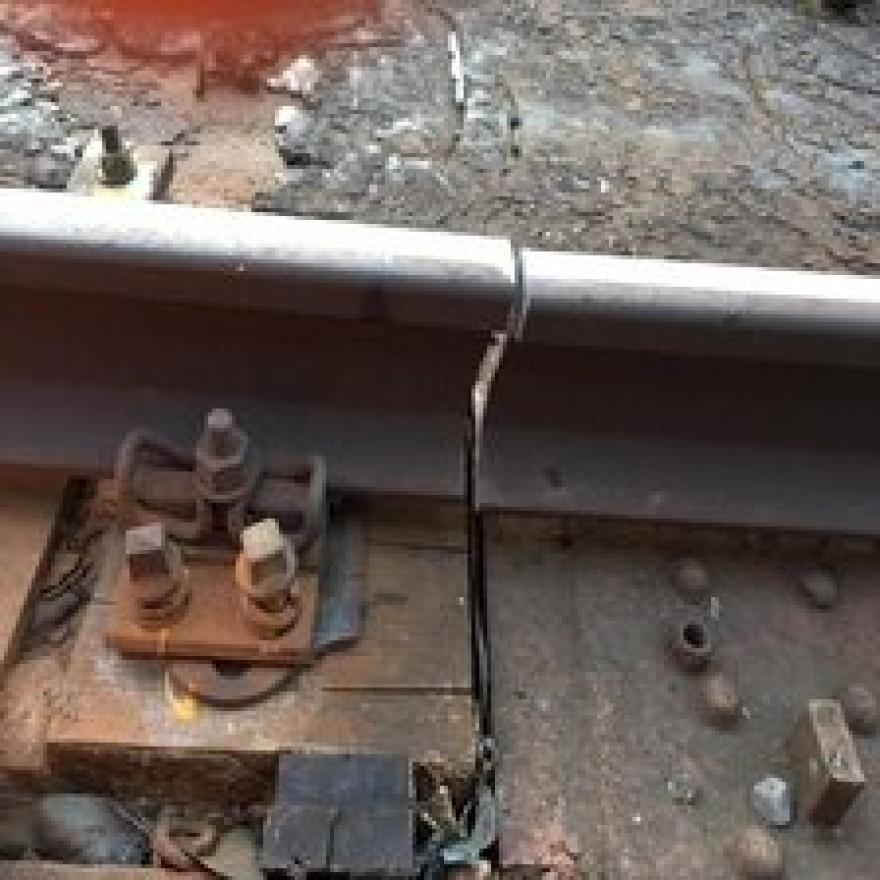railway-gap: (320, 210, 637, 553)
